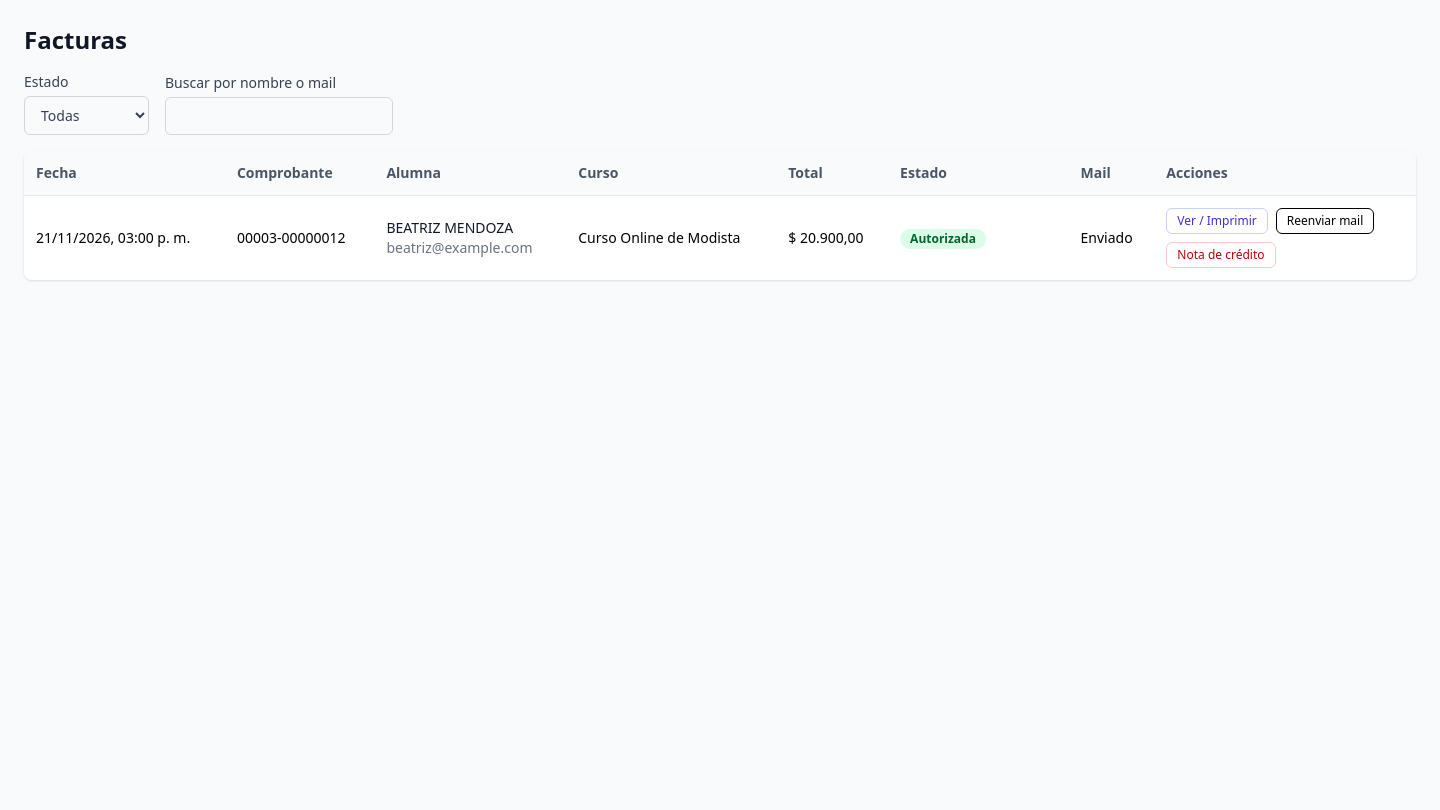
InvoicesListPage › warns, without blocking, when the invoice is older than 15 days
Step 1. Click the button "Nota de crédito" → (1221, 255), box [1166,242,1276,268]
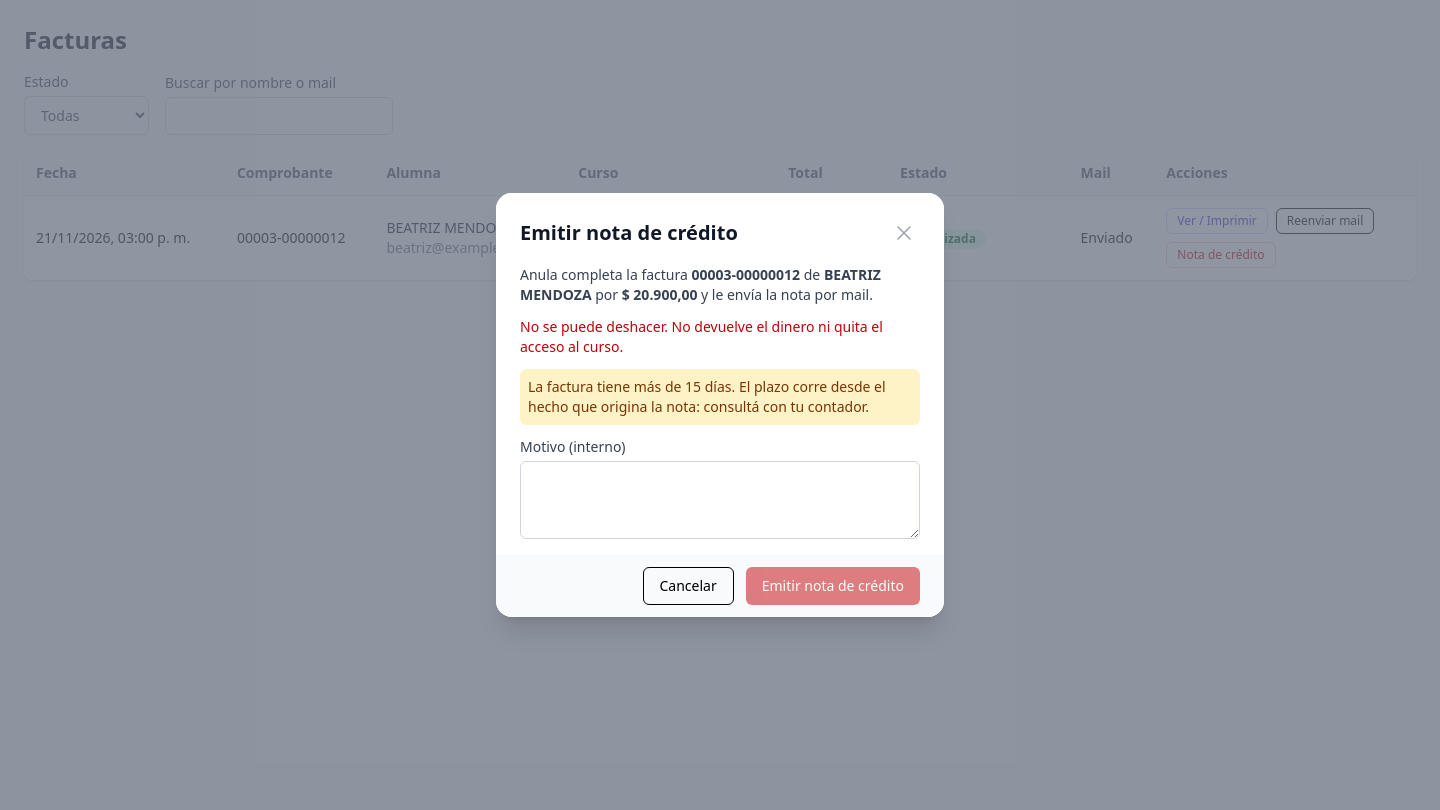
Now the text "15 días" is shown, box [528,377,886,416]
Step 2. Type "Devolución" into the text box labelled "Motivo (interno)" → (720, 500), box [520,461,920,539]
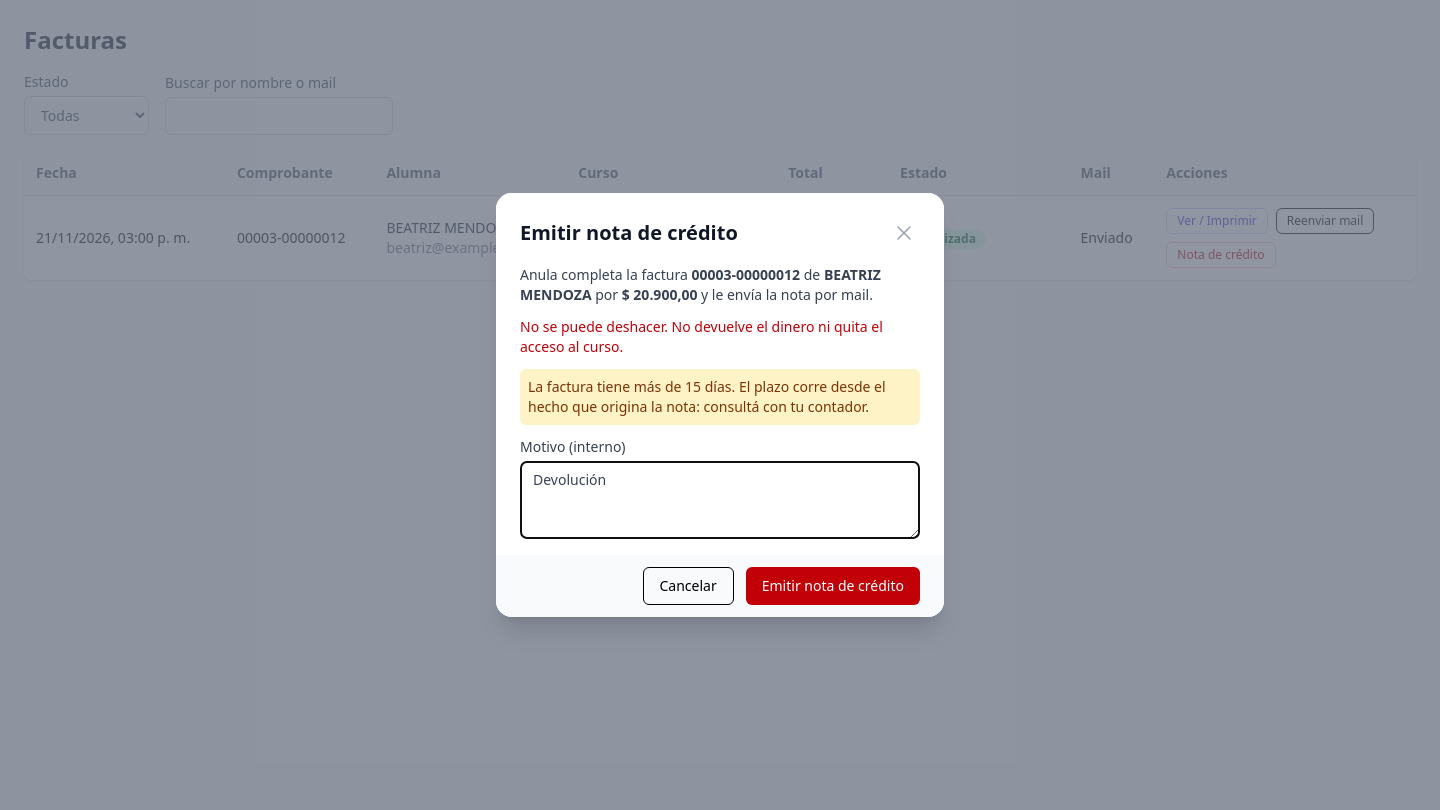
Now the button "Emitir nota de crédito" is enabled, box [746,567,920,605]
